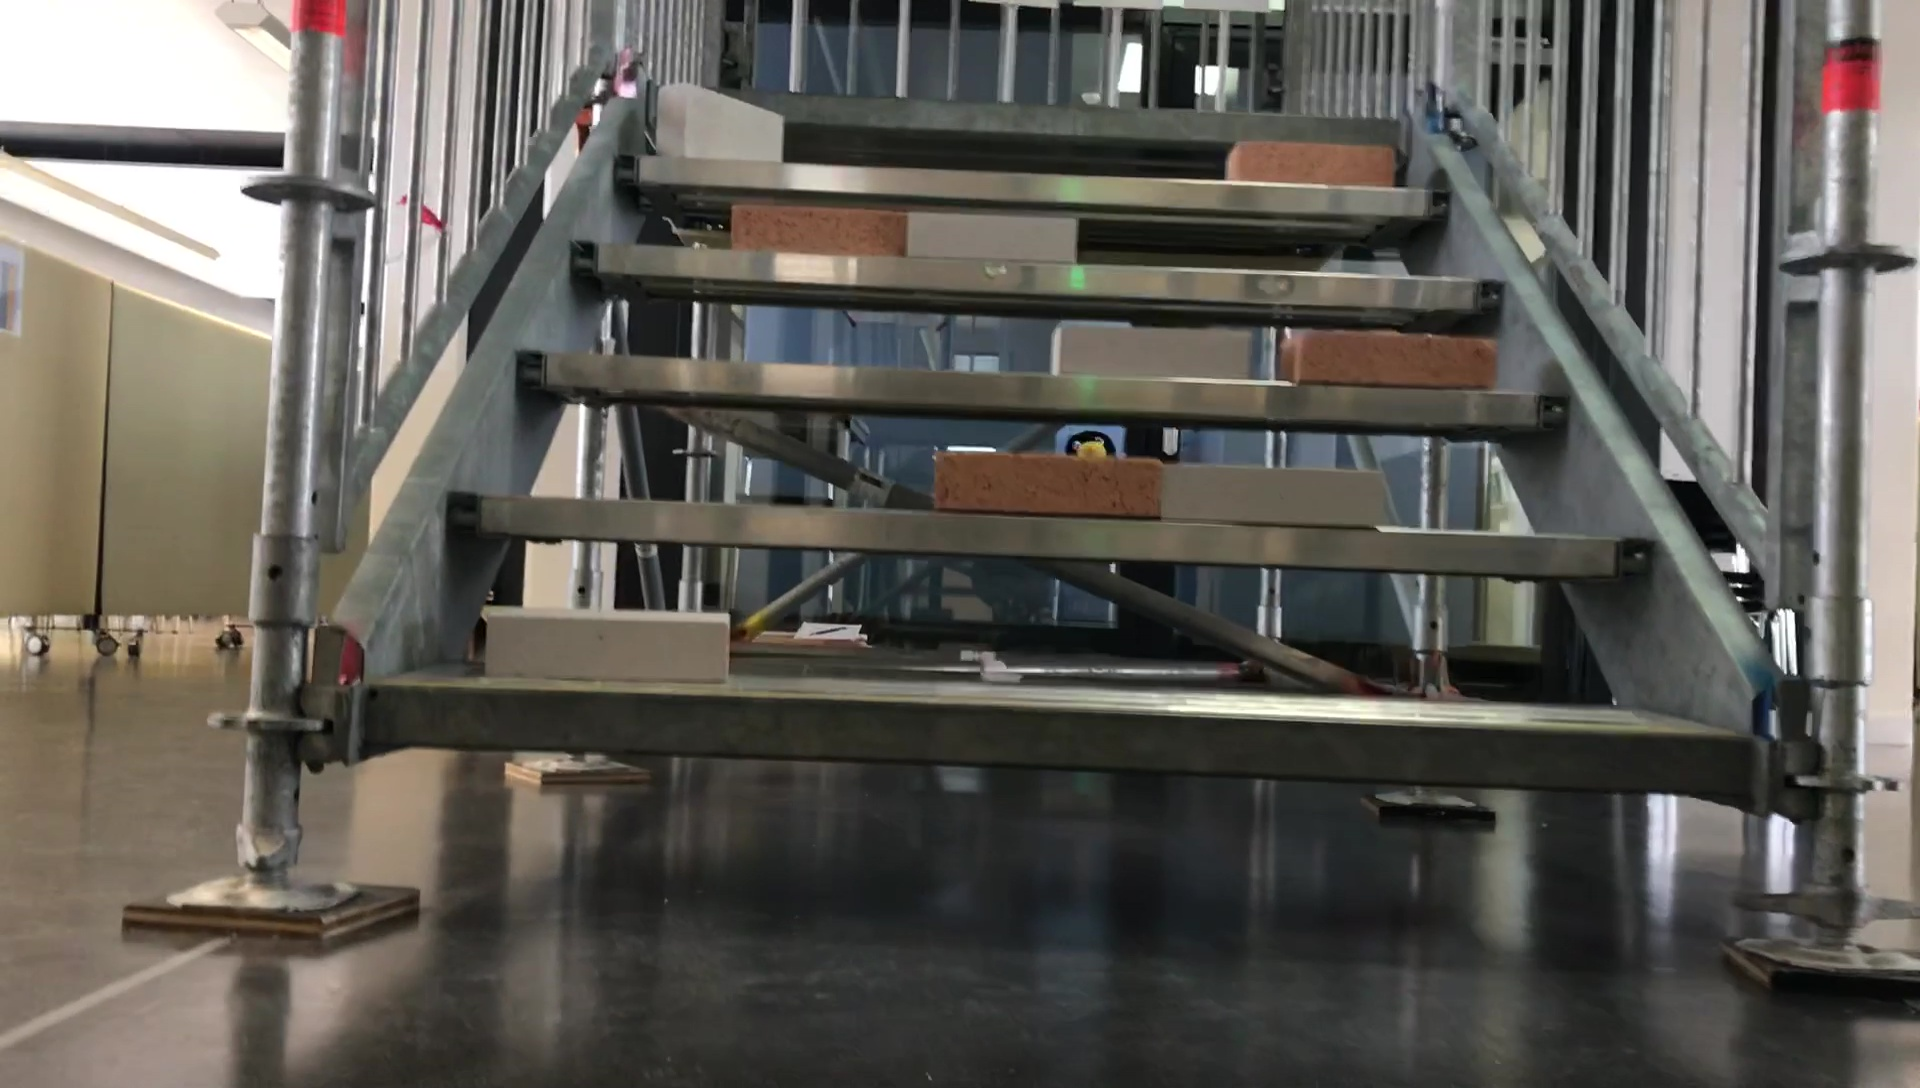brick: (487, 608, 723, 680), (935, 454, 1156, 520), (1160, 463, 1387, 525), (1280, 330, 1495, 386), (1058, 324, 1245, 378), (658, 83, 781, 162), (735, 204, 905, 255), (907, 214, 1073, 258), (1228, 140, 1393, 185)
edge: (372, 686, 1749, 793), (447, 495, 1652, 578), (514, 355, 1571, 426), (570, 243, 1502, 313), (616, 156, 1449, 215), (622, 87, 1410, 142)
stairs: (113, 15, 1912, 1005)
steps: (367, 73, 1768, 835)
